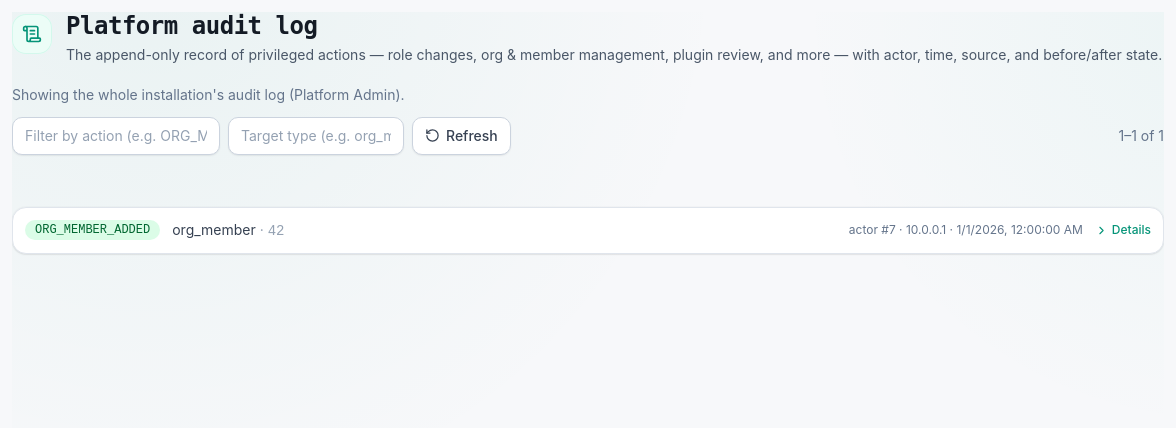
Test: AuditLogPage › expands a row to show before/after state and user agent
Expected: the text "ORG_MEMBER_ADDED" is shown, x1=25 y1=220 x2=160 y2=240
Expected: the text "Before" is not shown
Step 1. Click the button "Details" → (1123, 230), box x1=1095 y1=222 x2=1151 y2=238
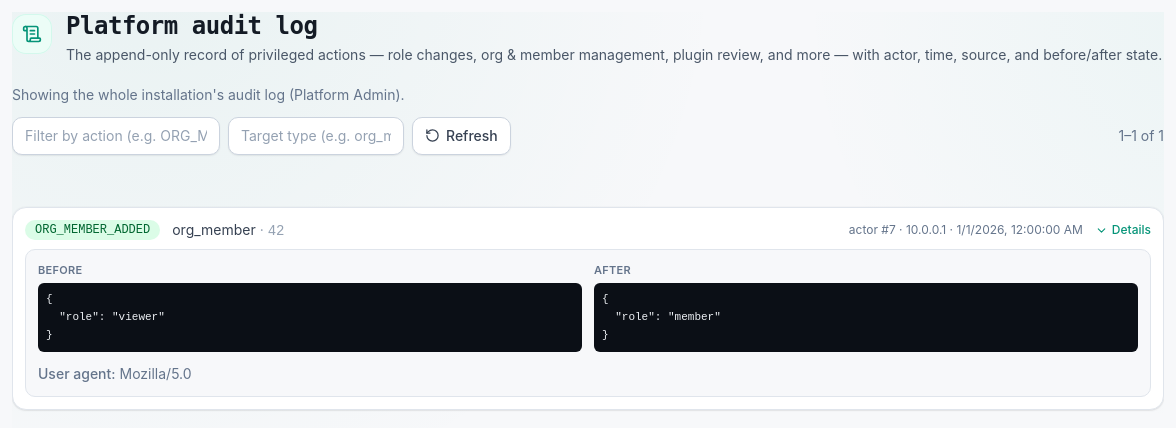
Expected: the text "Before" is shown, x1=38 y1=263 x2=82 y2=277
Expected: the text "After" is shown, x1=594 y1=263 x2=631 y2=277
Expected: the text "User agent: Mozilla/5.0" is shown, x1=38 y1=366 x2=192 y2=382
